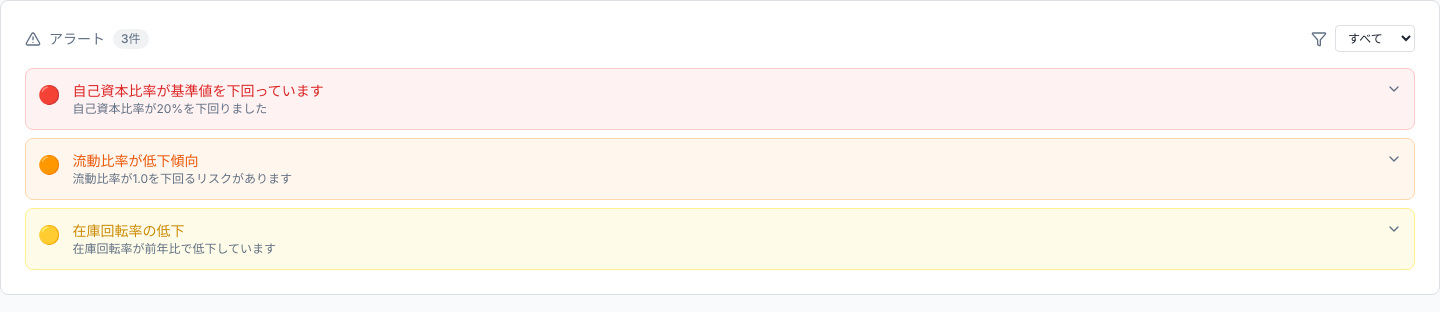
AlertsList › should filter alerts by severity
Select "重大 (1)" in the dropdown: (1375, 38) left=1335, top=25, right=1415, bottom=52
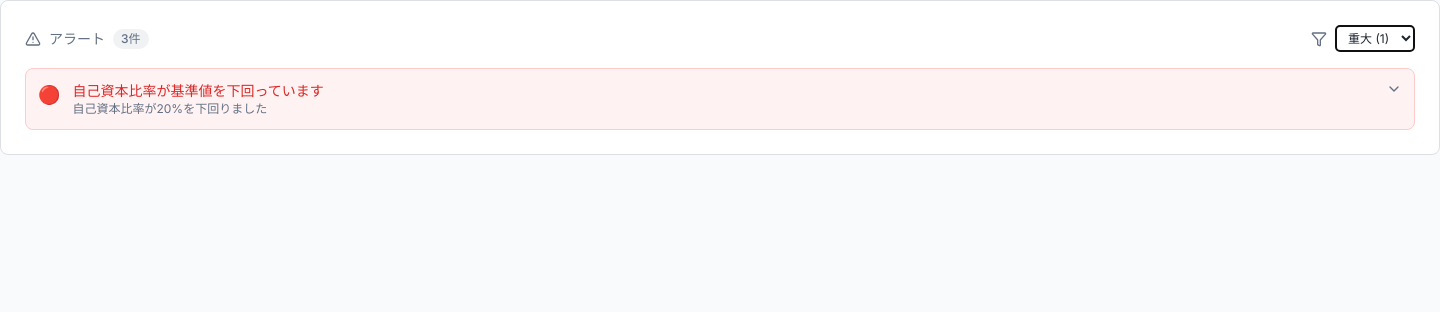
Expected: the text "自己資本比率が基準値を下回っています" is shown, left=72, top=82, right=324, bottom=99
Result: the button "流動比率が低下傾向" is gone
Result: the button "在庫回転率の低下" is gone
